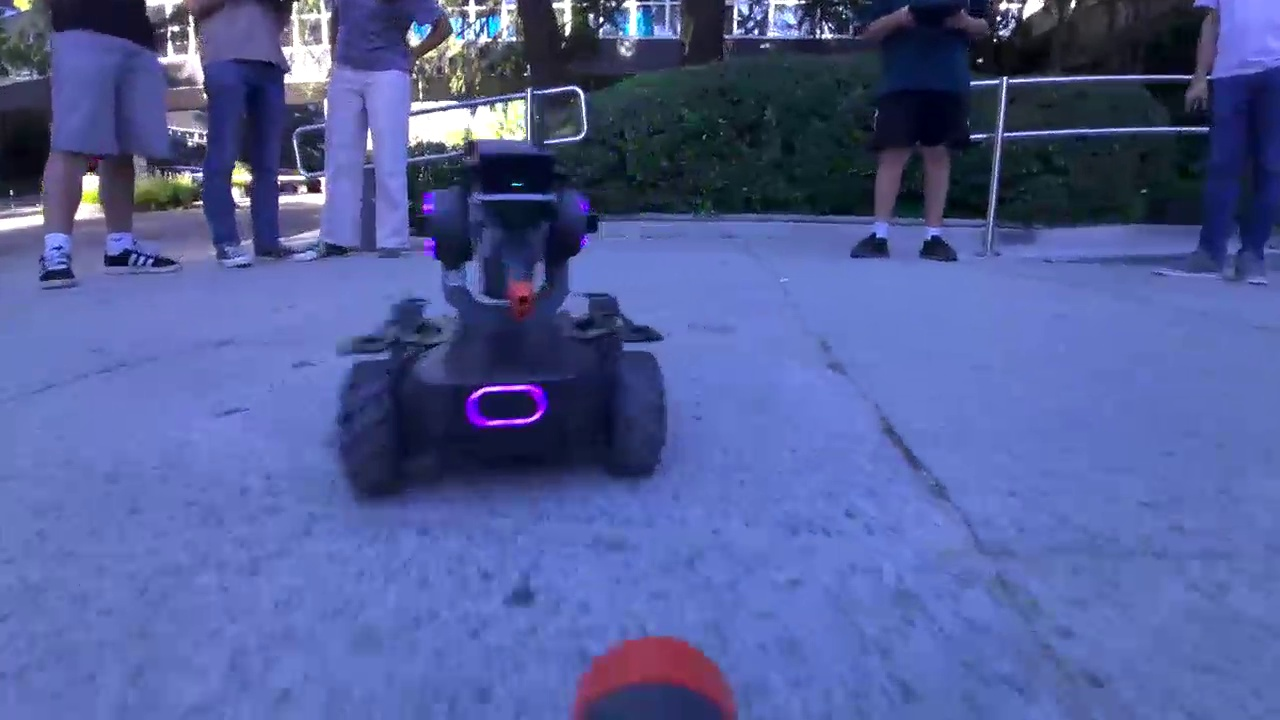robot: (335, 137, 672, 500)
